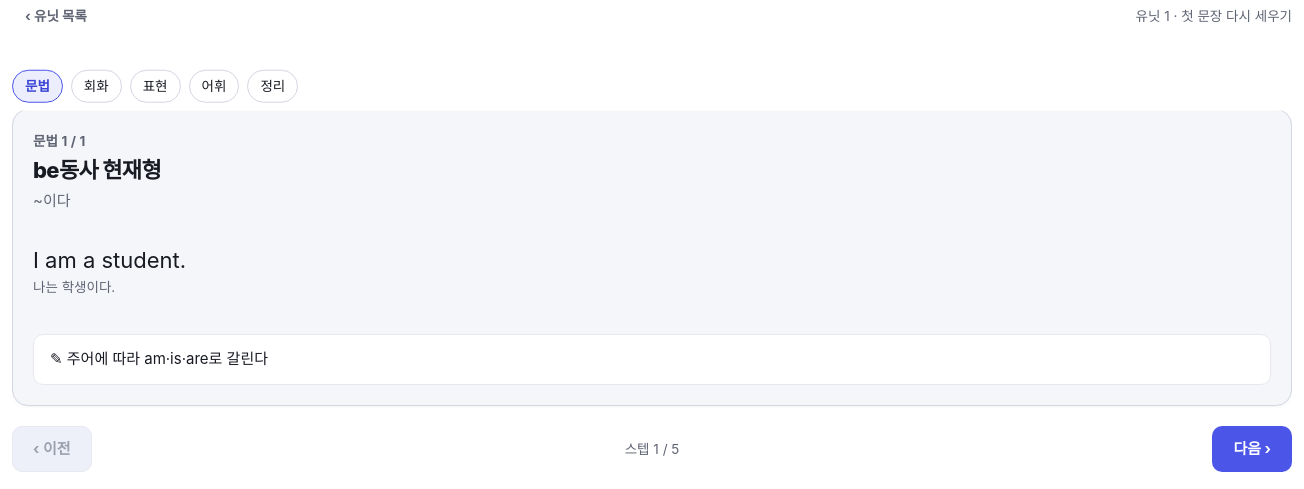
Test case: 어휘 스텝 (§3-3) › 읽기 열 자리에 발음 2줄이 들어가고, 열은 3열 그대로다
Click the button "어휘" at (214, 86), box [188,70,239,102]
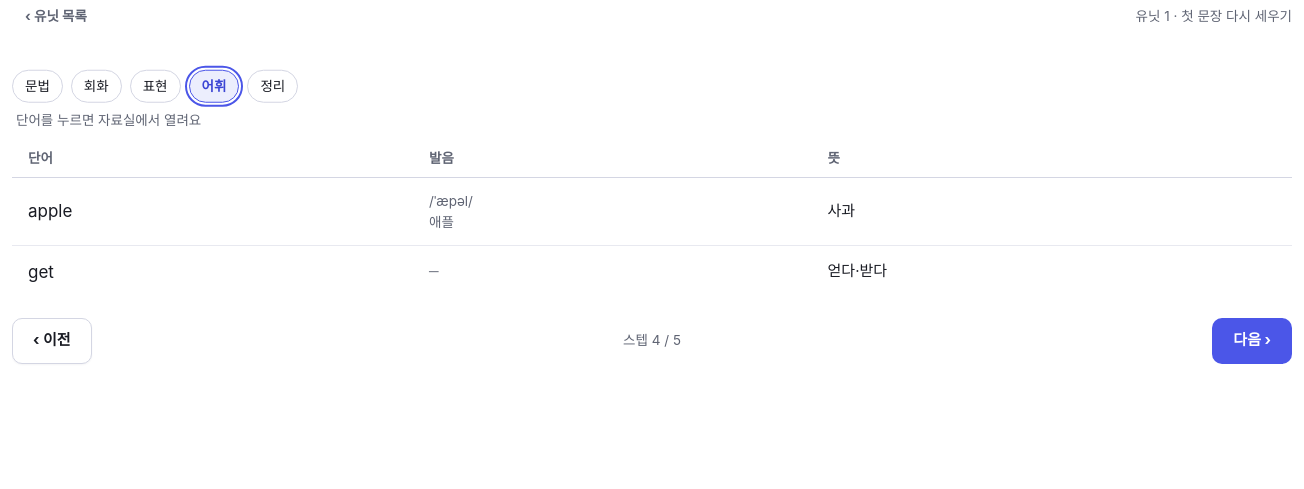
Expected: the column heading "발음" is shown, [413,139,812,178]
Expected: the text "/ˈæpəl/" is shown, [429,193,473,209]
Expected: the text "애플" is shown, [429,214,454,230]
